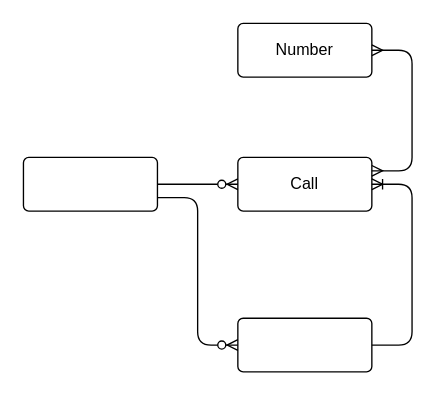
The diagram is 448 pixels wide and 395 high, and some of its shapes have lost their labels. Here are the shapes that lost their labels. From the top down, the centre of each, then its label:
point (89, 183): Audio
point (304, 344): MasiveCall
